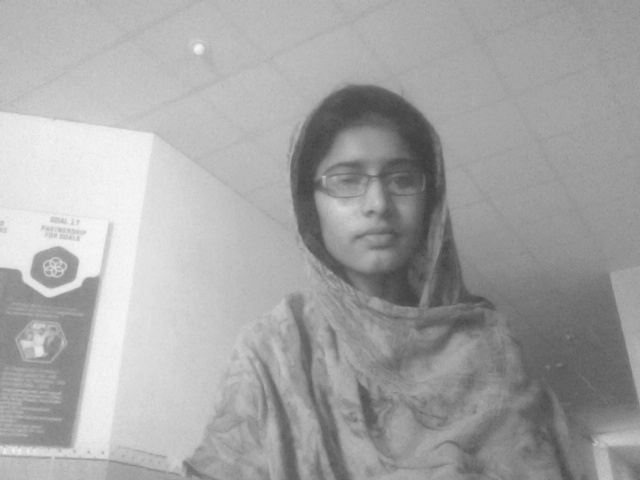Face: (135, 1, 521, 339)
